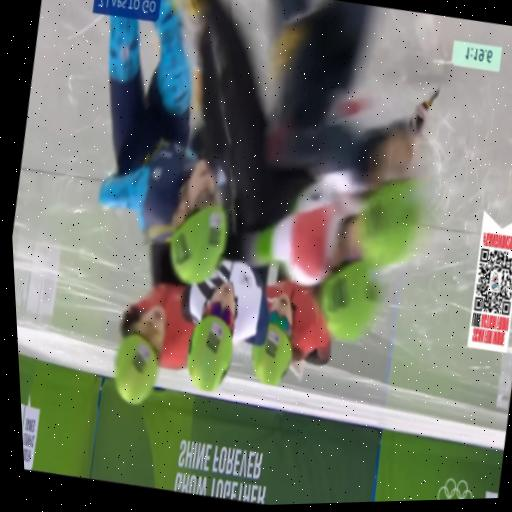Skater: (191, 0, 381, 339), (268, 0, 425, 266), (99, 0, 228, 282), (114, 243, 194, 403), (187, 260, 269, 390), (252, 276, 330, 385)
